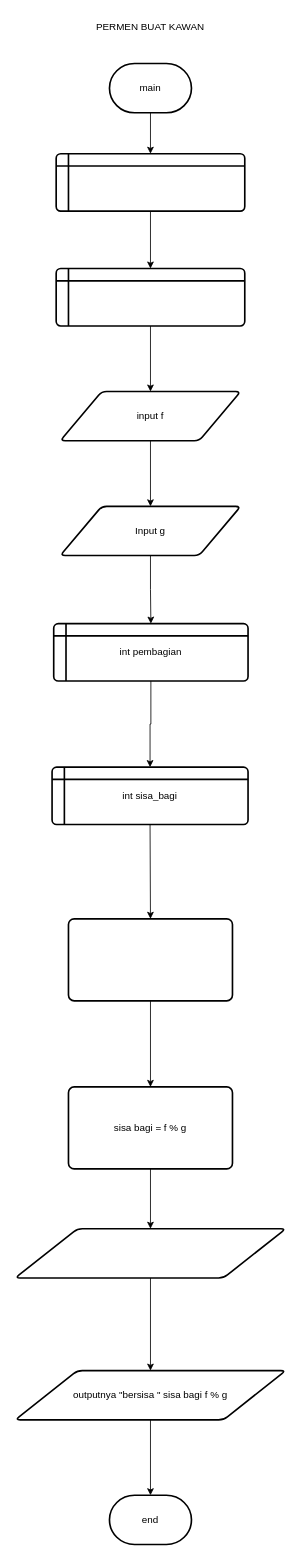
Image size: 300x1559. Some labels were removed from this diagram. Each missing label, with the box of its shape:
int f: (55, 153, 245, 212)
int g: (55, 267, 245, 326)
outputnya "masing-masing " pembagian f / g: (14, 1228, 286, 1278)
pembagian = f / g: (67, 918, 233, 1001)
